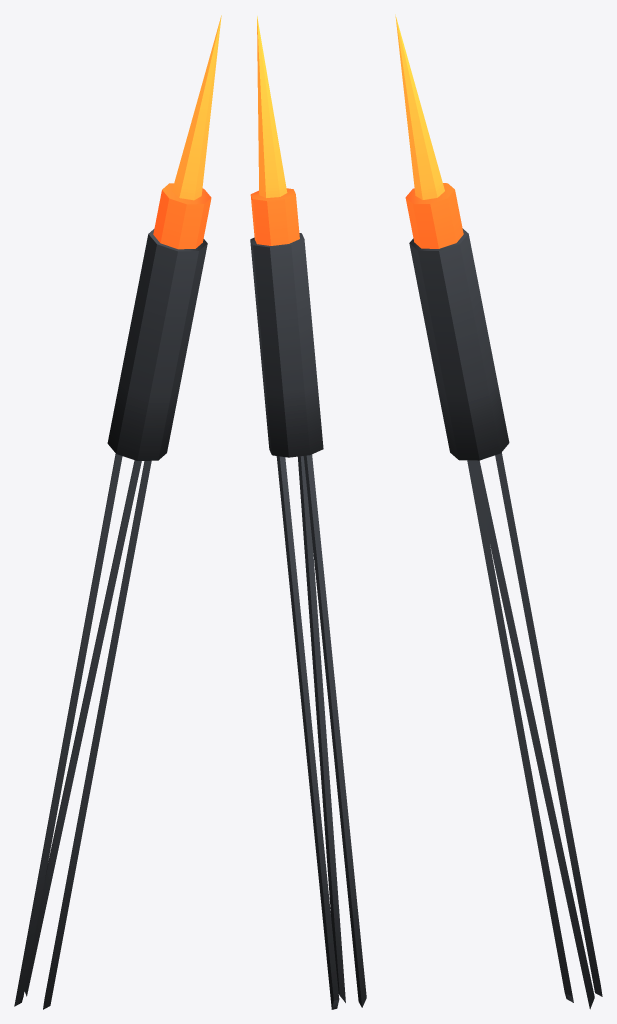
Rendered from brazier_witch.gltf.
3 renders of one model, left to right at view 1: azimuth 90°, elevation 25°; view 2: azimuth 210°, elevation 25°; view 3: azimuth 270°, elevation 25°, orthographic. The views are drawn at different scales.
Parts seen in each view (by area): view 1: brazier_witch; view 2: brazier_witch; view 3: brazier_witch.
Part boxes in pixels (left/top/right/bottom): brazier_witch: left=14, top=15, right=221, bottom=1009; brazier_witch: left=250, top=16, right=366, bottom=1009; brazier_witch: left=395, top=14, right=602, bottom=1009.
Bounding box in the file's own units: 0.0144 × 0.2612 × 0.0495.
Materials: 1 (1 with a texture image).
